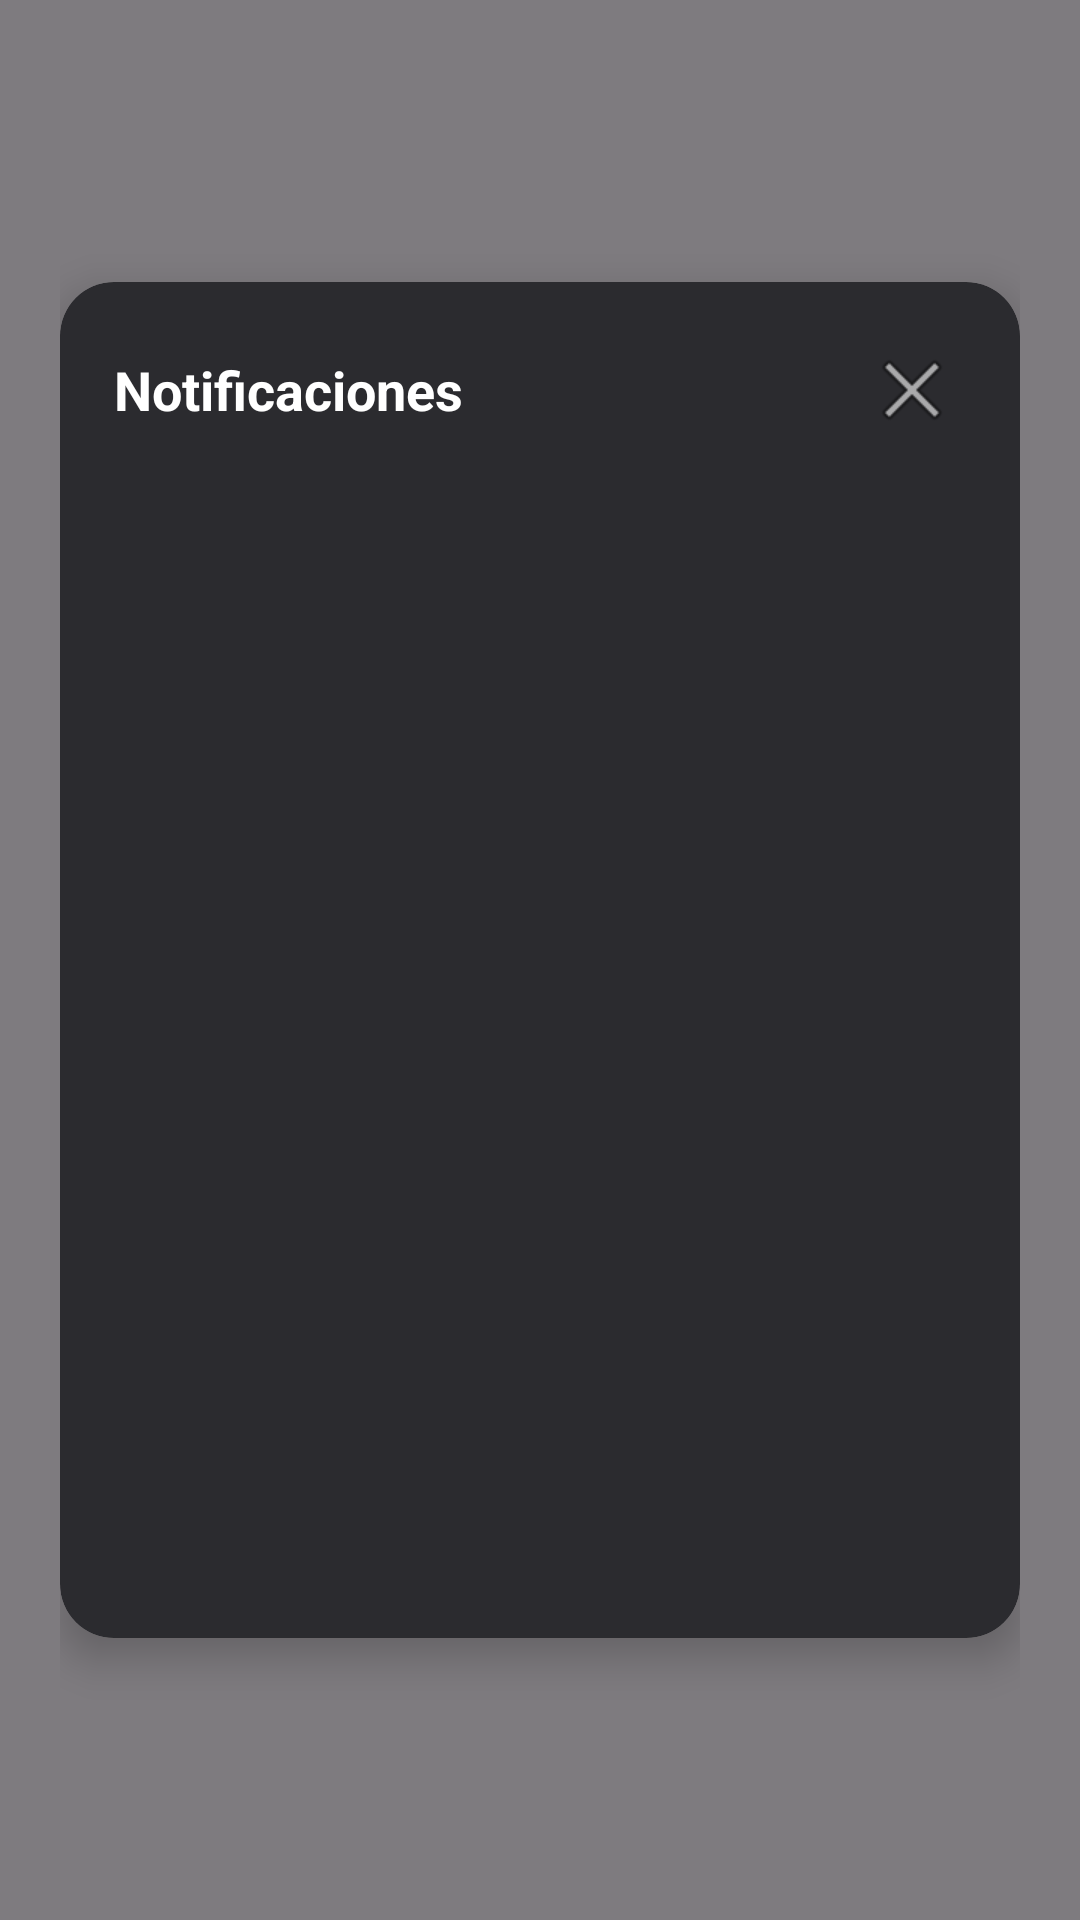

Icons on this 1080w x 1920h Android screen, each with its box as (x1, y1, x2, y2):
close clear cancel: (885, 363, 939, 417)
